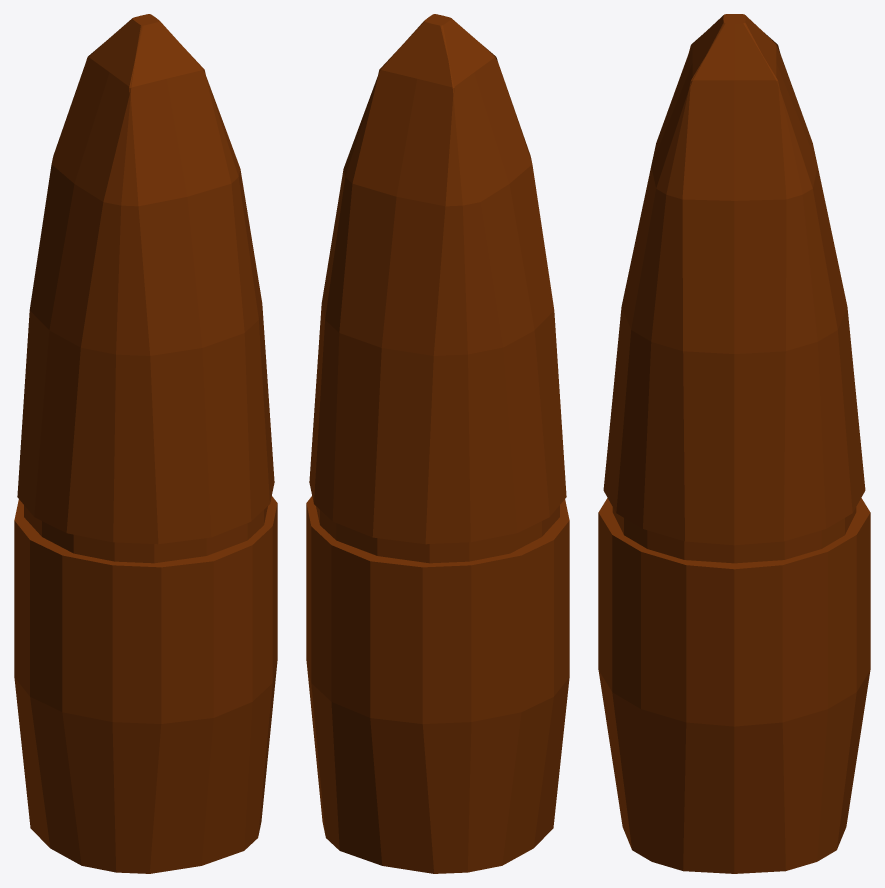
Rendered from model_ammo_556x45mm_bullet.glb.
3 renders of one model, left to right at view 1: azimuth 30°, elevation 25°; view 2: azimuth 150°, elevation 25°; view 3: azimuth 270°, elevation 25°, orthographic.
Visible parts, largest first — view 1: Bullet; view 2: Bullet; view 3: Bullet.
Boxes of the visible parts, left/top/right/bottom form: Bullet: left=14, top=14, right=277, bottom=873; Bullet: left=306, top=14, right=569, bottom=873; Bullet: left=598, top=14, right=870, bottom=873.
Bounding box in the file's own units: 0.05 × 0.1658 × 0.0506.
Materials: 1 (1 with a texture image).
